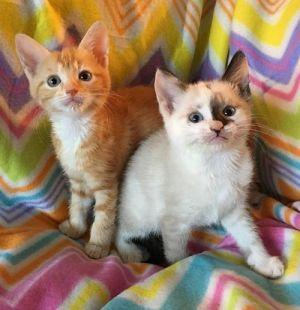siamese: (149, 47, 267, 160)
